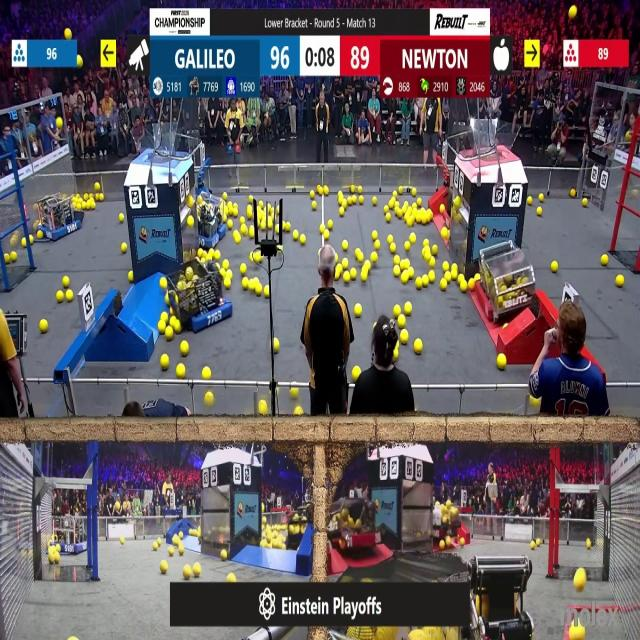ball_airborne: (568, 5, 576, 18), (58, 117, 64, 127)
ball_ground: (573, 569, 585, 590), (352, 365, 361, 381), (497, 354, 506, 369), (414, 340, 423, 355), (205, 392, 214, 407), (162, 354, 170, 369), (180, 342, 188, 357), (258, 402, 266, 417), (574, 627, 584, 639), (177, 363, 185, 376), (354, 305, 362, 318), (184, 565, 192, 578), (273, 339, 280, 353), (204, 366, 212, 378), (65, 290, 73, 302), (397, 316, 405, 328), (400, 332, 408, 344), (290, 387, 298, 399), (400, 273, 408, 285), (343, 261, 351, 273), (49, 552, 57, 564), (162, 561, 169, 574), (406, 304, 413, 317), (226, 572, 235, 582), (530, 396, 539, 406), (253, 251, 261, 262), (193, 564, 200, 576), (618, 275, 625, 287), (40, 320, 47, 332), (394, 306, 401, 318), (242, 278, 249, 290), (58, 290, 65, 302), (344, 272, 351, 284), (235, 233, 242, 245), (355, 248, 362, 260), (167, 328, 174, 340), (460, 281, 467, 293), (160, 321, 167, 333), (425, 210, 432, 222), (360, 272, 368, 282), (428, 256, 436, 266), (407, 216, 415, 226), (394, 208, 402, 218), (601, 254, 608, 265), (63, 277, 70, 288), (416, 278, 423, 289), (65, 29, 72, 40), (393, 267, 400, 278), (220, 551, 227, 562), (428, 273, 435, 284), (423, 248, 430, 259), (362, 262, 369, 273), (552, 262, 558, 274), (265, 286, 271, 298), (76, 57, 82, 69), (467, 280, 473, 292), (338, 191, 344, 203), (369, 252, 376, 262), (443, 230, 450, 240), (444, 263, 451, 273), (223, 279, 230, 289), (283, 221, 290, 231), (259, 220, 266, 230), (388, 202, 395, 212), (187, 198, 194, 208), (416, 213, 423, 223), (241, 265, 247, 276), (162, 278, 168, 289), (255, 284, 261, 295), (452, 271, 458, 282), (248, 228, 254, 239), (187, 216, 193, 227), (248, 279, 254, 290), (172, 536, 180, 544), (344, 574, 352, 582), (10, 252, 17, 261), (445, 272, 452, 281), (316, 185, 323, 194), (323, 231, 329, 241), (431, 246, 437, 256), (411, 234, 417, 244), (442, 280, 448, 290), (342, 241, 348, 251), (393, 350, 399, 360), (351, 270, 357, 280), (120, 243, 126, 253), (298, 235, 304, 245), (390, 244, 396, 254), (169, 545, 175, 555), (422, 277, 428, 287), (214, 250, 220, 260), (95, 182, 101, 192), (241, 224, 247, 234), (4, 253, 10, 263), (247, 207, 252, 219), (170, 316, 176, 326), (409, 269, 415, 279), (34, 230, 40, 240), (323, 185, 329, 195), (294, 409, 301, 417), (129, 272, 134, 283), (538, 192, 544, 201), (536, 207, 542, 216), (375, 241, 381, 250), (570, 188, 576, 197), (403, 242, 409, 251), (292, 232, 298, 241), (222, 262, 228, 271), (226, 219, 232, 228), (530, 540, 536, 549), (91, 201, 97, 210), (404, 261, 410, 270), (23, 238, 29, 247), (28, 237, 34, 246), (179, 544, 184, 554), (269, 219, 274, 229), (587, 538, 592, 548), (359, 197, 364, 207), (340, 208, 346, 216), (527, 198, 533, 206), (583, 200, 589, 208), (458, 274, 464, 282), (336, 272, 342, 280), (162, 313, 168, 321), (337, 264, 343, 272), (394, 255, 399, 264), (275, 223, 280, 232), (371, 198, 376, 207), (441, 539, 446, 548), (165, 295, 171, 302), (388, 236, 393, 244), (371, 232, 376, 240), (327, 220, 332, 228), (386, 214, 391, 222), (118, 214, 123, 222), (152, 542, 157, 550), (460, 537, 465, 545), (474, 274, 479, 282), (424, 239, 429, 247), (417, 200, 422, 208), (311, 190, 316, 198), (234, 208, 239, 216), (248, 194, 253, 202), (222, 192, 227, 200), (313, 202, 317, 211), (320, 223, 324, 232), (57, 543, 61, 552), (155, 538, 161, 544), (241, 216, 246, 223), (413, 188, 418, 195), (258, 202, 263, 209), (336, 255, 341, 262), (179, 532, 184, 539), (535, 538, 540, 545), (403, 202, 408, 209), (100, 192, 104, 200), (120, 536, 124, 544), (384, 206, 388, 214), (0, 310, 4, 318), (82, 202, 86, 210), (264, 514, 268, 522), (277, 206, 281, 214), (442, 206, 446, 213), (269, 205, 273, 212)
goal: (466, 122, 521, 160), (130, 130, 190, 160)
robot_blue: (168, 258, 234, 334), (37, 193, 84, 241), (195, 193, 228, 249), (55, 516, 88, 555), (284, 513, 308, 548)
robot_red: (473, 245, 534, 329), (328, 504, 376, 558), (430, 501, 464, 543)
